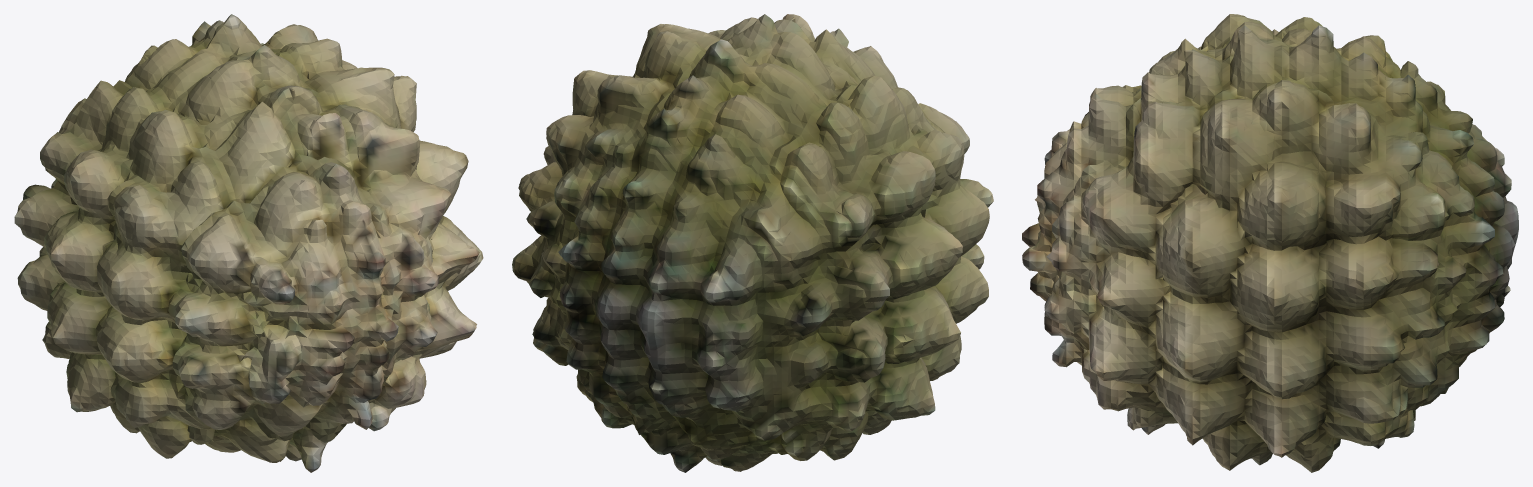
3 views of the same model, side by side, from view 1: azimuth 30°, elevation 25°; view 2: azimuth 150°, elevation 25°; view 3: azimuth 270°, elevation 25° (orthographic). The views are drawn at different scales.
Parts seen in each view (by area): view 1: world; view 2: world; view 3: world.
Part boxes in pixels (x1,y1,x2,y2): world: [14, 14, 483, 472]; world: [512, 14, 993, 472]; world: [1022, 14, 1518, 472].
Bounding box in the file's own units: 0.8896 × 0.8866 × 0.9164.
